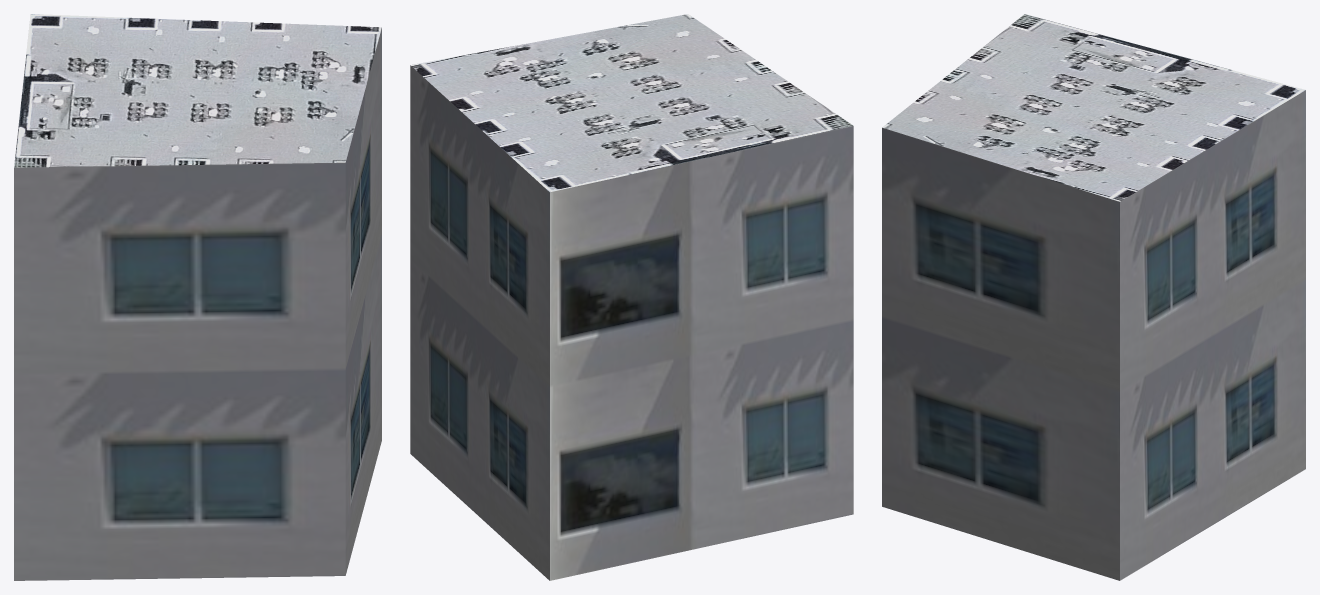
Rendered from ResTex__5110.fbx.
3 views of the same model, side by side, from view 1: azimuth 30°, elevation 25°; view 2: azimuth 150°, elevation 25°; view 3: azimuth 270°, elevation 25° (orthographic). The views are drawn at different scales.
Parts seen in each view (by area): view 1: CityEngineMaterial_10_m, CityEngineMaterial_4_m; view 2: CityEngineMaterial_10_m, CityEngineMaterial_4_m; view 3: CityEngineMaterial_10_m, CityEngineMaterial_4_m.
Boxes of the visible parts, x1,y1,x2,y2 form: CityEngineMaterial_10_m: [14, 28, 381, 580]; CityEngineMaterial_4_m: [14, 14, 381, 167]; CityEngineMaterial_10_m: [410, 65, 853, 580]; CityEngineMaterial_4_m: [410, 14, 853, 192]; CityEngineMaterial_10_m: [882, 90, 1305, 580]; CityEngineMaterial_4_m: [882, 14, 1305, 201].
Bounding box in the file's own units: 6.38 × 6 × 6.08.
2 materials, 2 textured.
